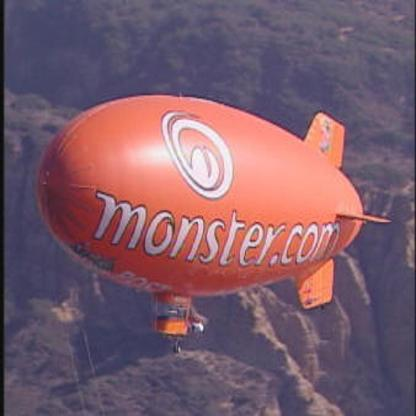Airship: (33, 93, 396, 341)
